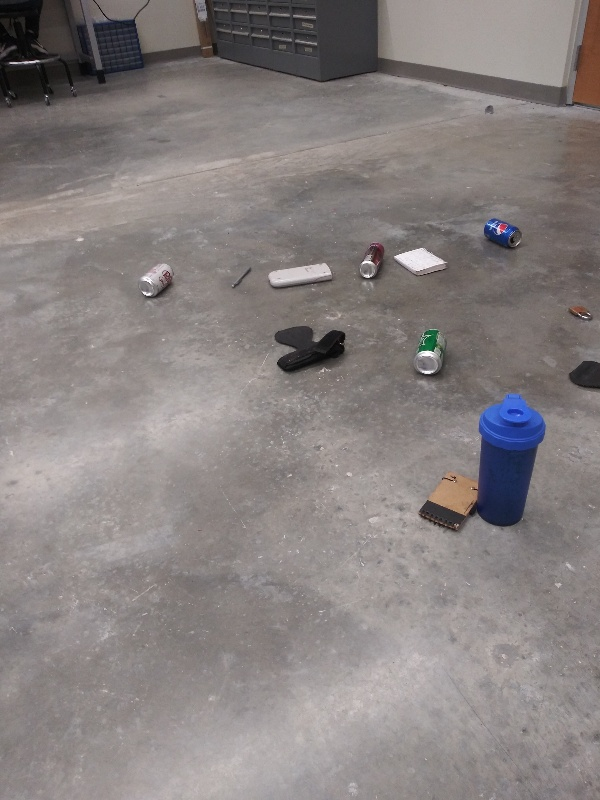can: (413, 328, 452, 381), (135, 261, 177, 301), (484, 214, 524, 251), (357, 237, 388, 282)
